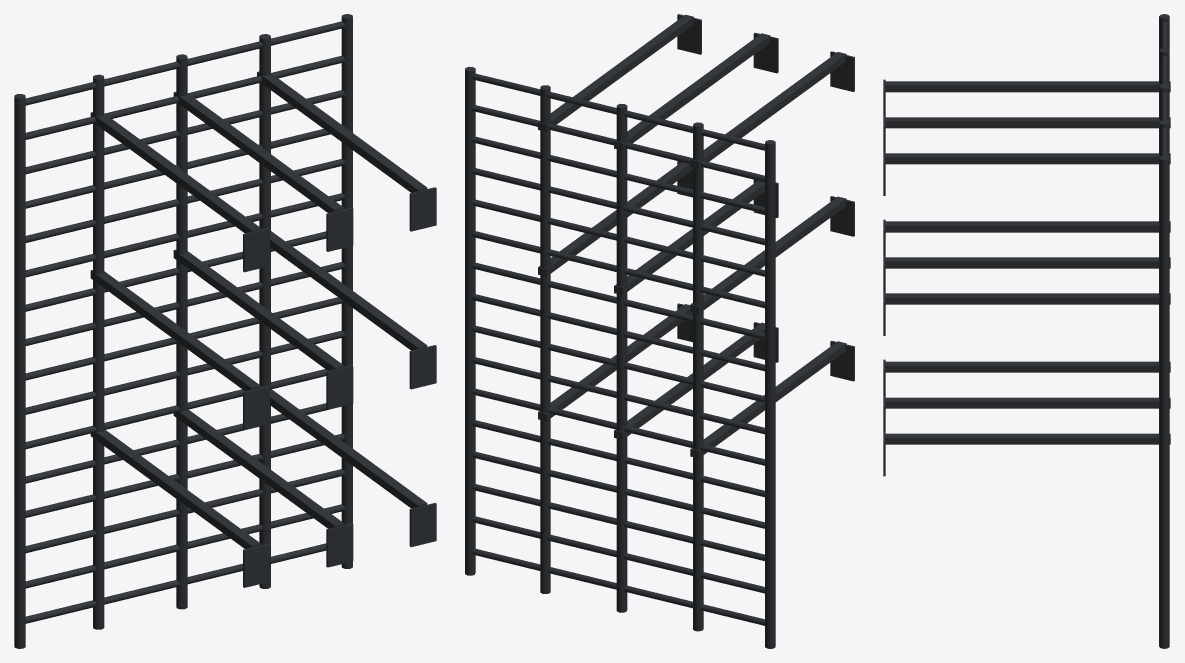
File: SM_shpping_rack.fbx
3 views of the same model, side by side, from view 1: azimuth 30°, elevation 25°; view 2: azimuth 150°, elevation 25°; view 3: azimuth 270°, elevation 25° (orthographic). The views are drawn at different scales.
Parts seen in each view (by area): view 1: shpping_rack; view 2: shpping_rack; view 3: shpping_rack.
Boxes of the visible parts, x1,y1,x2,y2 form: shpping_rack: [14, 14, 436, 648]; shpping_rack: [465, 14, 854, 648]; shpping_rack: [883, 14, 1170, 648].
Size of the model in its own units: 110 by 172 by 91.68.
